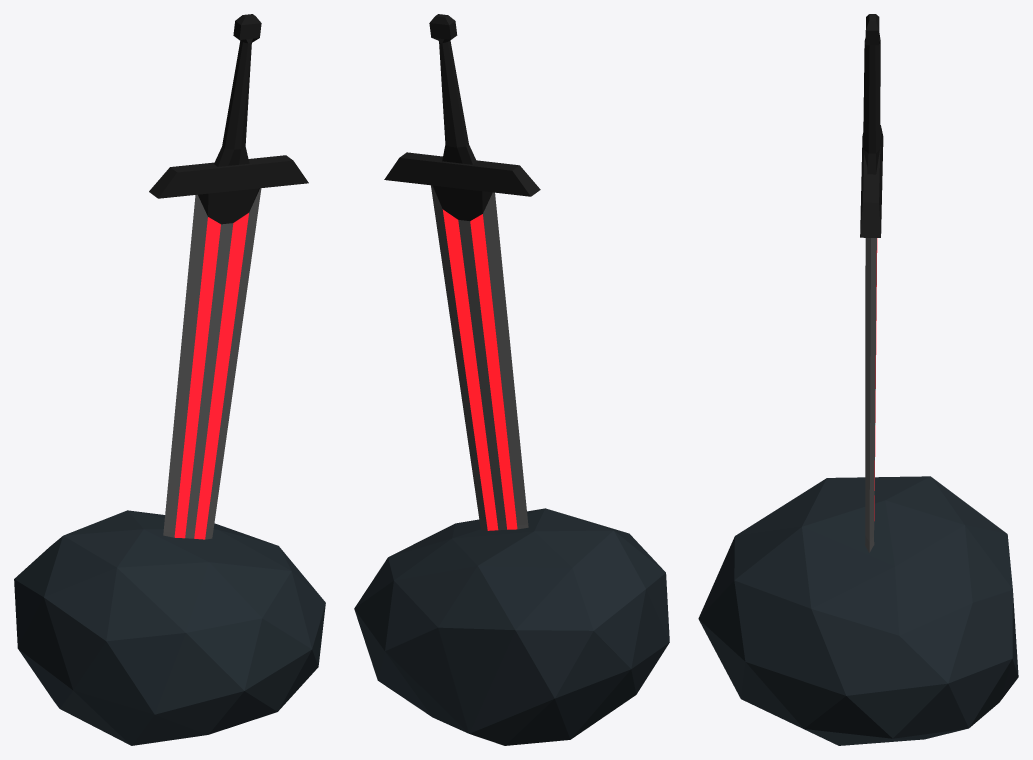
File: Doom Sword.fbx
3 views of the same model, side by side, from view 1: azimuth 30°, elevation 25°; view 2: azimuth 150°, elevation 25°; view 3: azimuth 270°, elevation 25° (orthographic). The views are drawn at different scales.
Parts seen in each view (by area): view 1: Icosphere; view 2: Icosphere; view 3: Icosphere.
Part boxes in pixels (box(x1,y1,x2,y2)): Icosphere: box(14, 14, 325, 745); Icosphere: box(354, 14, 669, 745); Icosphere: box(698, 14, 1018, 745).
Size of the model in its own units: 52.59 by 123 by 48.68.
